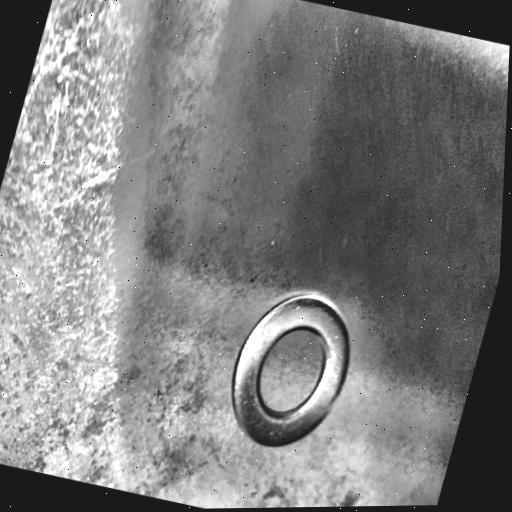Washer: (230, 292, 352, 448)
